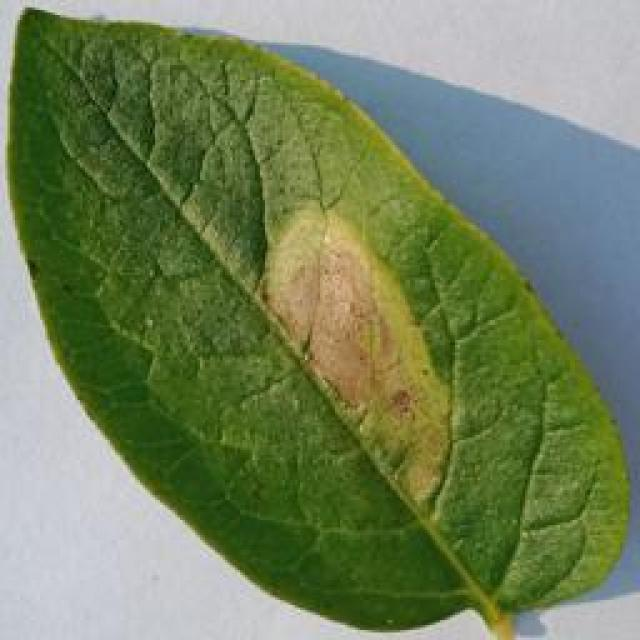Potato_Late_Blight: (9, 8, 614, 632)
